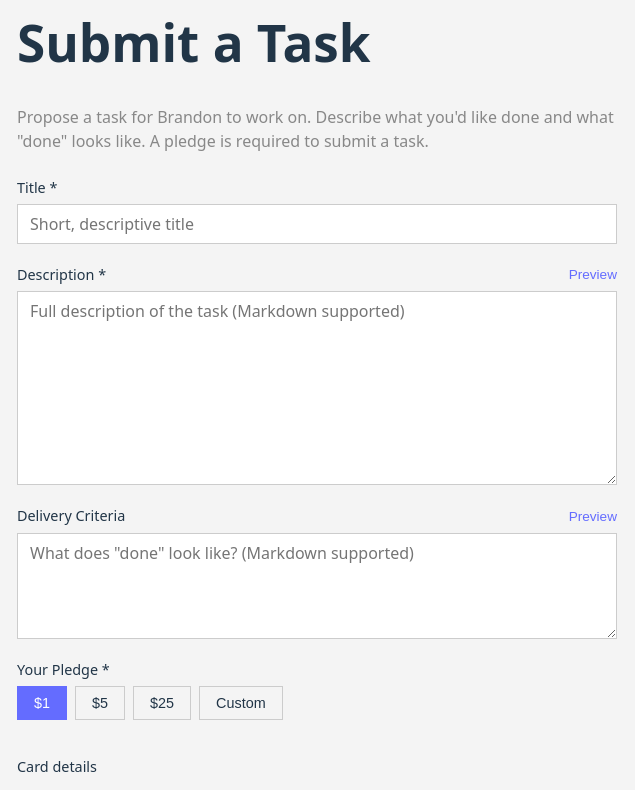
Test: SubmitTask (non-admin) › shows error when createTask fails
Type "Task" into the field labelled "Title *" at (317, 224), box [17,204,617,244]
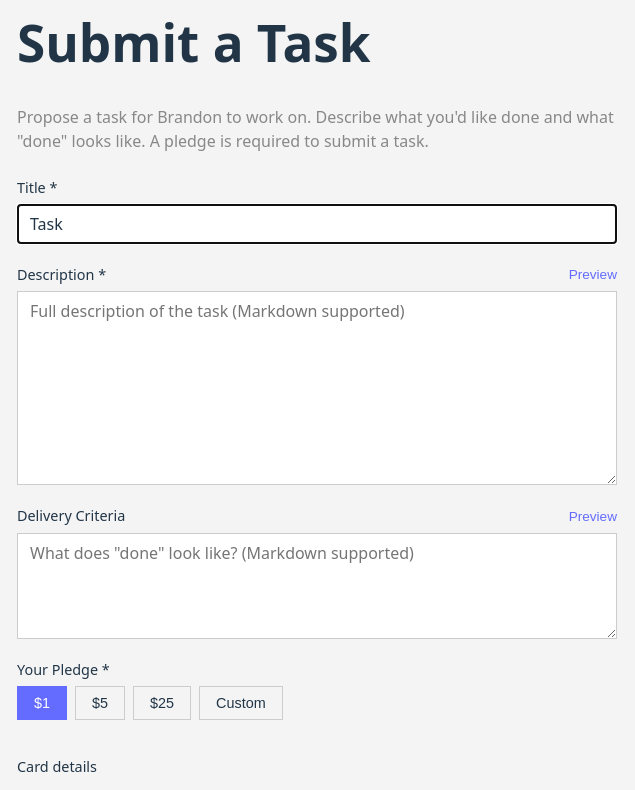
Type "Desc" into the text box labelled "Description *" at (317, 388), box [17,291,617,485]
(page scrolled)
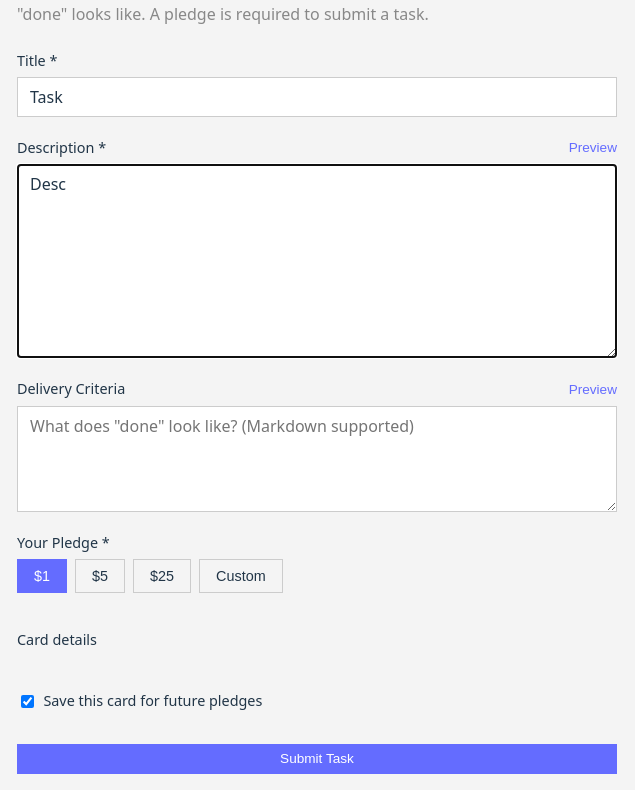
Click the button "Submit Task" at (317, 759), box [17,744,617,774]
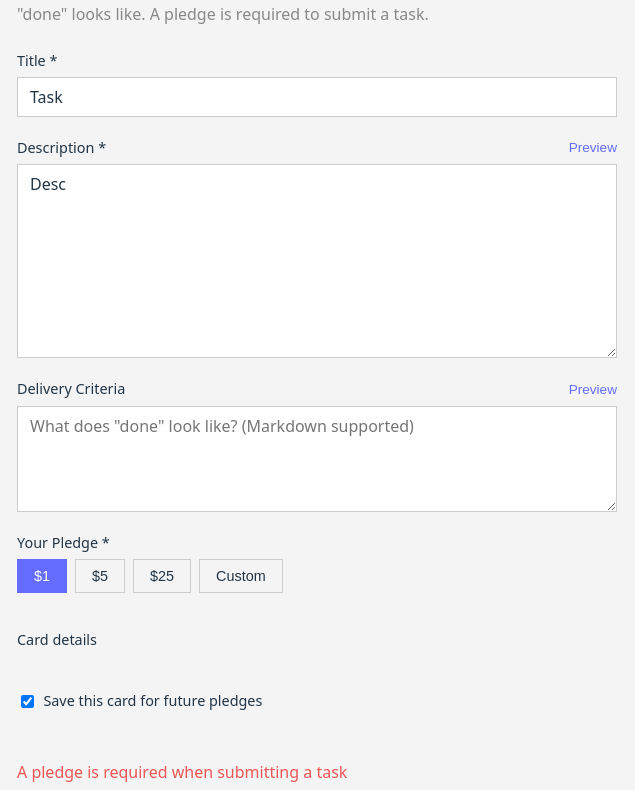
expect the text "A pledge is required when submitting a task" is shown: met, box [17,761,347,783]
